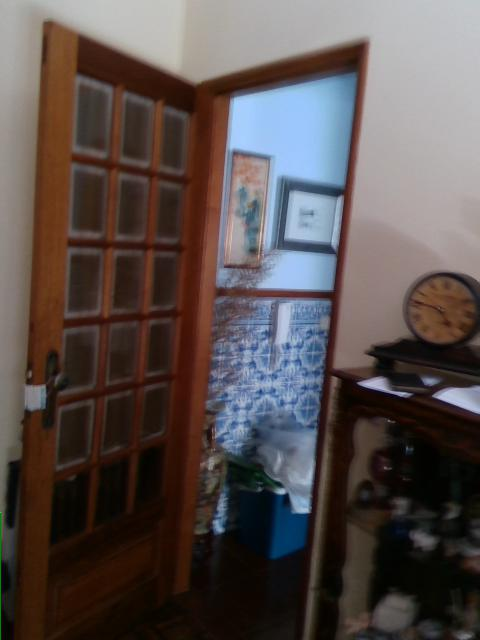open_door: (172, 34, 370, 639)
